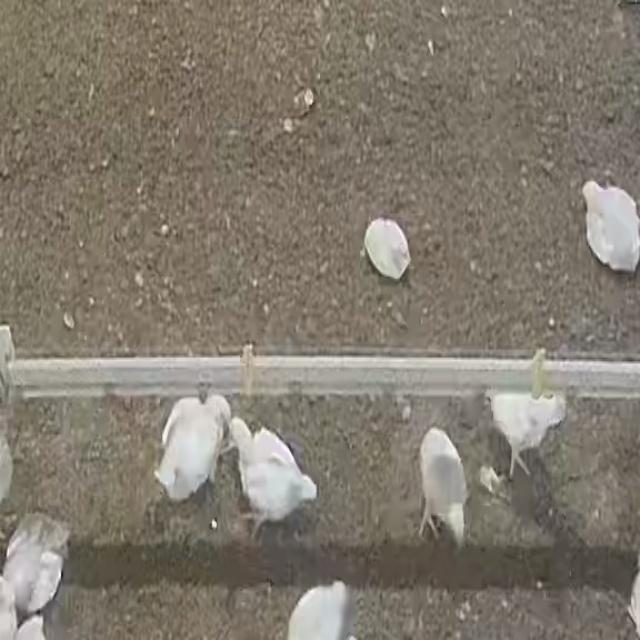chicken: (225, 417, 320, 544), (153, 394, 232, 504), (2, 514, 73, 624), (486, 386, 566, 480), (417, 428, 468, 550), (582, 180, 640, 275), (366, 216, 411, 281)
